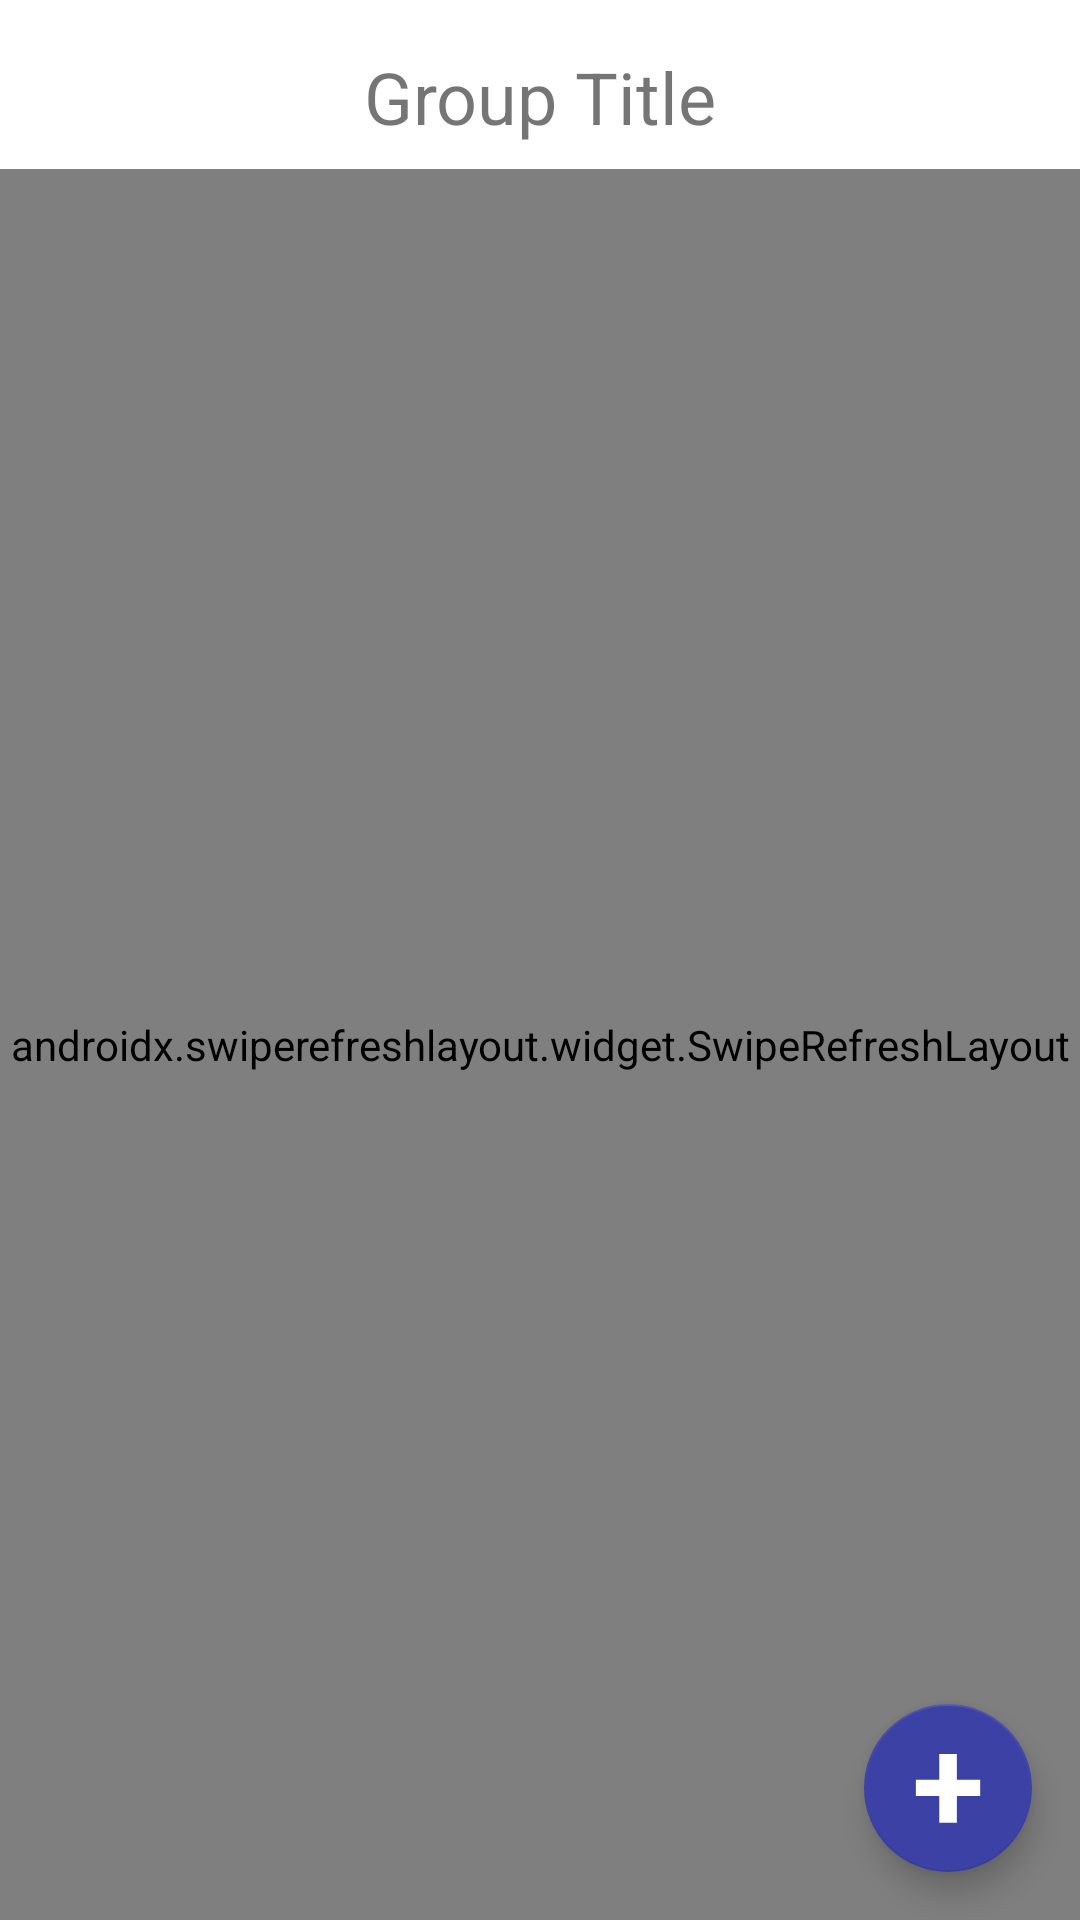

Named icons in this screenshot (1080×1920) and their centers, (x,y):
plus: (948,1788)
